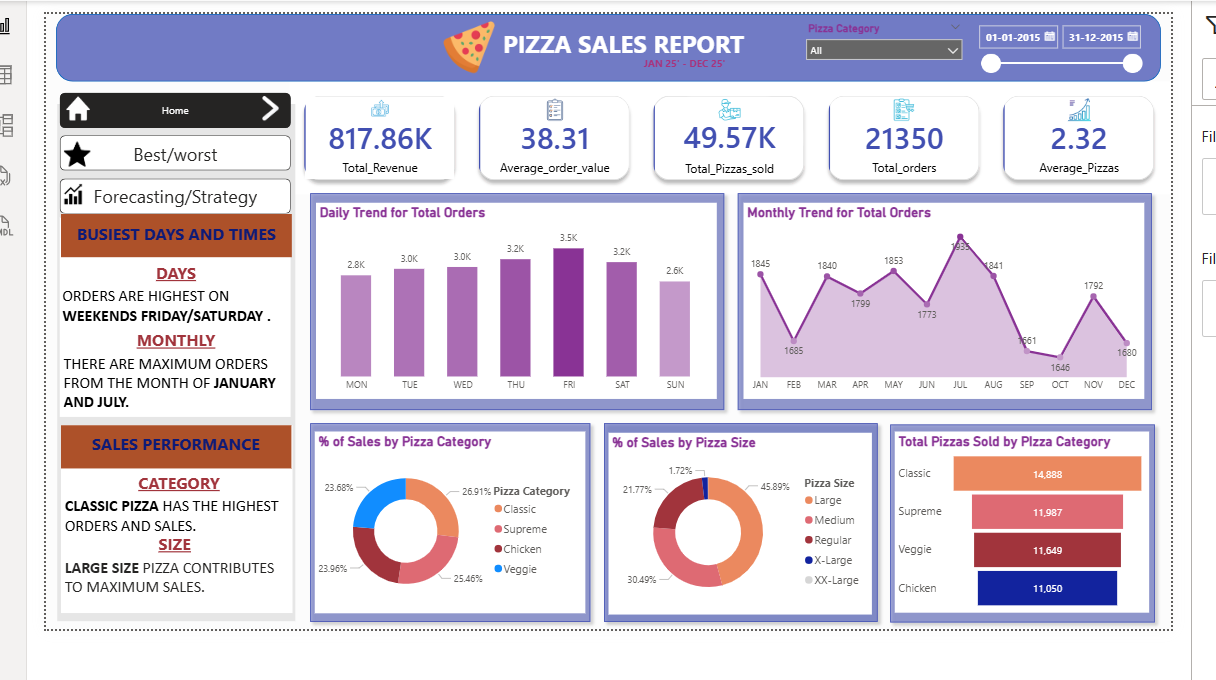

The dashboard page shown, as its layout file describes it:
{"tool":"powerbi","page":{"name":"page1","canvas":[1500,820],"ordinal":0},"visuals":[{"type":"cardVisual","fields":{"Data":["pizza_sales$.Total_Revenue","pizza_sales$.Average_order_value","pizza_sales$.Total_Pizzas_sold","pizza_sales$.Total_orders","pizza_sales$.Average_Pizzas_Per_order"]},"box":[324.3,90,1175.7,150],"z":0},{"type":"shape","box":[12.7,0,1473.2,90.1],"z":1000},{"type":"textbox","box":[14.5,0,1472.5,82.6],"z":2000},{"type":"image","box":[515,8.3,98.3,71.7],"z":3000},{"type":"shape","box":[342.9,230,570,307.1],"z":4000},{"type":"shape","box":[912.9,230,570,307.1],"z":5000},{"type":"columnChart","title":"Daily Trend for Total Orders","fields":{"Y":["pizza_sales$.Total_orders"],"Category":["pizza_sales$.New_day"]},"box":[360,251.4,534.3,261.4],"z":6000},{"type":"areaChart","title":"Monthly Trend for Total Orders","fields":{"Category":["pizza_sales$.ShortMonthName"],"Y":["pizza_sales$.Total_orders"]},"box":[930,251.4,534,261.4],"z":7000},{"type":"shape","box":[342.9,537.1,391.4,282.9],"z":8000},{"type":"shape","box":[734.3,537.1,382.9,282.9],"z":9000},{"type":"shape","box":[1116.7,537.5,370.8,281.9],"z":10000},{"type":"donutChart","title":"% of Sales by Pizza Category","fields":{"Category":["pizza_sales$.pizza_category"],"Y":["Sum(pizza_sales$.total_price)"]},"box":[358.9,556.7,361.1,242.2],"z":11000},{"type":"donutChart","title":"% of Sales by Pizza Size","fields":{"Category":["pizza_sales$.pizza_size"],"Y":["Sum(pizza_sales$.total_price)"]},"box":[750,558.9,351.1,242],"z":12000},{"type":"funnel","title":"Total Pizzas Sold by PIzza Category","fields":{"Category":["pizza_sales$.pizza_category"],"Y":["Sum(pizza_sales$.quantity)"]},"box":[1131.9,556.9,339,241.7],"z":13000},{"type":"textbox","box":[791.7,51.7,121.7,28.3],"z":14000},{"type":"shape","box":[14.5,120.3,317.4,689.9],"z":15000},{"type":"slicer","fields":{"Values":["pizza_sales$.pizza_category"]},"box":[1003.3,5,228.3,71.7],"z":16000},{"type":"slicer","fields":{"Values":["pizza_sales$.order_date"]},"box":[1231.7,5,238.3,80],"z":17000},{"type":"image","box":[12.9,117.1,64.3,48.6],"z":18000},{"type":"shape","box":[15.5,112.1,317.2,58.6],"z":19000},{"type":"textbox","box":[95.7,117.1,128.6,55.7],"z":20000},{"type":"image","box":[10,117.1,60,41.4],"z":21000},{"type":"shape","box":[15.5,181,313.8,60.3],"z":22000},{"type":"textbox","box":[44.8,187.9,275.9,63.8],"z":23000},{"type":"image","box":[15.5,182.8,51.7,41.4],"z":24000},{"type":"shape","box":[20.3,547.8,308.7,250.7],"z":25000},{"type":"textbox","box":[65.2,605.8,224.6,43.5],"z":26000},{"type":"textbox","box":[20.3,639.1,314.5,69.6],"z":27000},{"type":"textbox","box":[59.4,687,223.2,43.5],"z":28000},{"type":"textbox","box":[20.3,720.3,314.5,65.2],"z":29000},{"type":"shape","box":[18.9,271.1,307.8,265.6],"z":30000},{"type":"shape","box":[20.3,547.8,307.2,58],"z":31000},{"type":"shape","box":[20,266.7,307.8,57.8],"z":32000},{"type":"textbox","box":[50.7,553.6,246.4,44.9],"z":33000},{"type":"textbox","box":[24.4,273.3,297.8,44.4],"z":34000},{"type":"textbox","box":[61.1,324.4,223.3,43.3],"z":35000},{"type":"textbox","box":[61.1,415.6,223.3,43.3],"z":36000},{"type":"textbox","box":[16.7,357.8,315.6,68.9],"z":37000},{"type":"textbox","box":[18.9,448.9,315.6,98.9],"z":38000},{"type":"textbox","box":[580,13.3,380,61.7],"z":39000},{"type":"actionButton","box":[13.3,183.3,315,58.3],"z":40000},{"type":"image","box":[276.7,120,66.7,41.7],"z":41000}]}

Visuals, with their boxes on the page's 1500x820 design canvas (x1, y1, x2, y2). These are canvas units, not pixel positions in the 1216x680 screenshot, which may show the page scaled, cropped or inside an application window:
cardVisual - pizza_sales$.Total_Revenue x pizza_sales$.Average_order_value: (left=324, top=90, right=1500, bottom=240)
shape: (left=13, top=0, right=1486, bottom=90)
textbox: (left=14, top=0, right=1487, bottom=83)
image: (left=515, top=8, right=613, bottom=80)
shape: (left=343, top=230, right=913, bottom=537)
shape: (left=913, top=230, right=1483, bottom=537)
"Daily Trend for Total Orders" columnChart: (left=360, top=251, right=894, bottom=513)
"Monthly Trend for Total Orders" areaChart: (left=930, top=251, right=1464, bottom=513)
shape: (left=343, top=537, right=734, bottom=820)
shape: (left=734, top=537, right=1117, bottom=820)
shape: (left=1117, top=538, right=1488, bottom=819)
"% of Sales by Pizza Category" donutChart: (left=359, top=557, right=720, bottom=799)
"% of Sales by Pizza Size" donutChart: (left=750, top=559, right=1101, bottom=801)
"Total Pizzas Sold by PIzza Category" funnel: (left=1132, top=557, right=1471, bottom=799)
textbox: (left=792, top=52, right=913, bottom=80)
shape: (left=14, top=120, right=332, bottom=810)
slicer - pizza_sales$.pizza_category: (left=1003, top=5, right=1232, bottom=77)
slicer - pizza_sales$.order_date: (left=1232, top=5, right=1470, bottom=85)
image: (left=13, top=117, right=77, bottom=166)
shape: (left=16, top=112, right=333, bottom=171)
textbox: (left=96, top=117, right=224, bottom=173)
image: (left=10, top=117, right=70, bottom=158)
shape: (left=16, top=181, right=329, bottom=241)
textbox: (left=45, top=188, right=321, bottom=252)
image: (left=16, top=183, right=67, bottom=224)
shape: (left=20, top=548, right=329, bottom=798)
textbox: (left=65, top=606, right=290, bottom=649)
textbox: (left=20, top=639, right=335, bottom=709)
textbox: (left=59, top=687, right=283, bottom=730)
textbox: (left=20, top=720, right=335, bottom=786)
shape: (left=19, top=271, right=327, bottom=537)
shape: (left=20, top=548, right=328, bottom=606)
shape: (left=20, top=267, right=328, bottom=324)
textbox: (left=51, top=554, right=297, bottom=598)
textbox: (left=24, top=273, right=322, bottom=318)
textbox: (left=61, top=324, right=284, bottom=368)
textbox: (left=61, top=416, right=284, bottom=459)
textbox: (left=17, top=358, right=332, bottom=427)
textbox: (left=19, top=449, right=334, bottom=548)
textbox: (left=580, top=13, right=960, bottom=75)
actionButton: (left=13, top=183, right=328, bottom=242)
image: (left=277, top=120, right=343, bottom=162)
